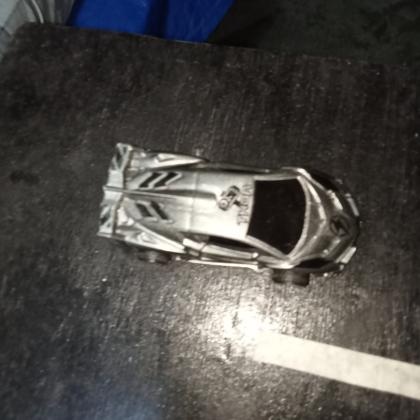Car: (94, 140, 364, 289)
